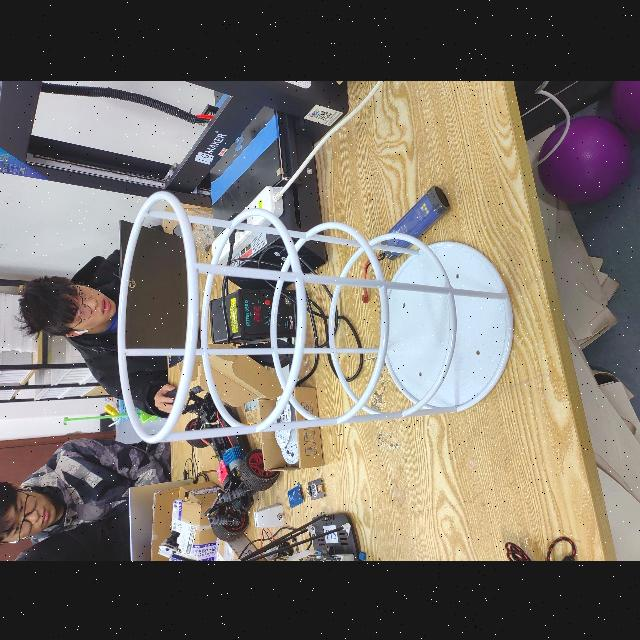S: (110, 183, 518, 447)
